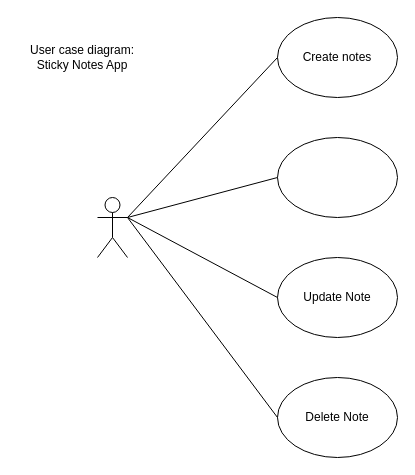
Image size: 415x475. Some labels were removed from this diagram. The shapes that lost their labels are listed below. From the top down, each one's box as (x1, y1, x2, y2) in pixels, then its label:
(276, 136, 398, 218): View Notes
(96, 196, 128, 258): Actor
